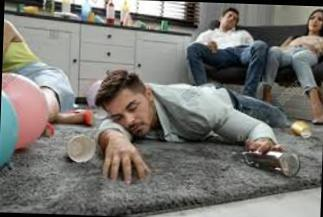Drunk: (104, 85, 152, 135)
